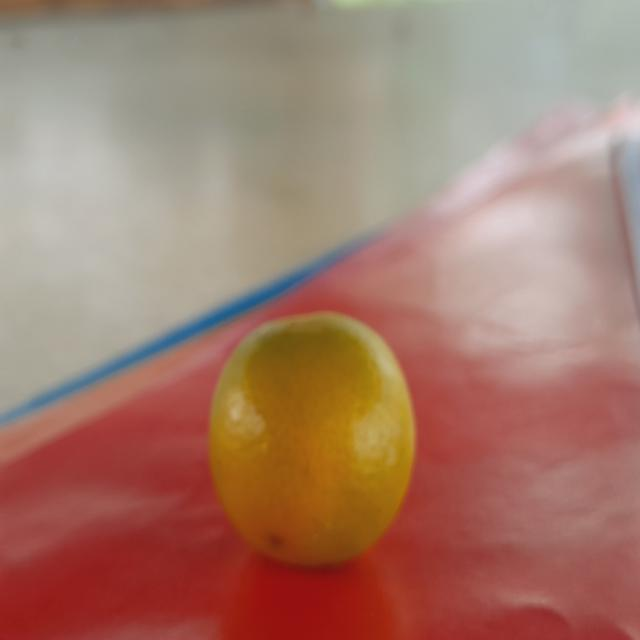greening: (198, 262, 437, 587)
